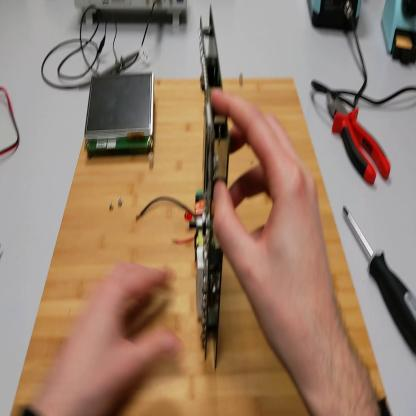hand: (210, 84, 341, 375), (40, 259, 181, 416)
low voltage board: (135, 11, 230, 376)
oscilloscope: (74, 1, 187, 26)
oscilloscope probe tip: (80, 50, 138, 91)
pliers: (326, 97, 392, 185)
screwdriver-: (345, 208, 416, 357)
welder base: (380, 3, 416, 66)
welder station: (309, 1, 362, 33)
working area: (11, 79, 385, 415)
